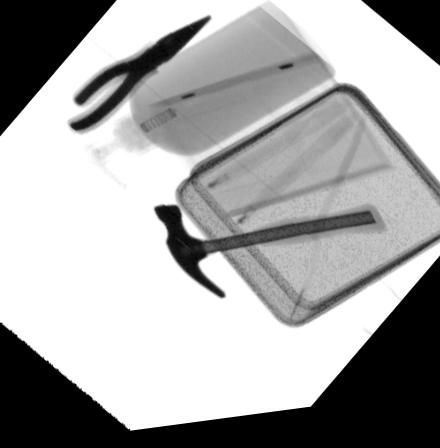Hammer: (151, 208, 386, 305)
Pliers: (64, 25, 211, 139)
